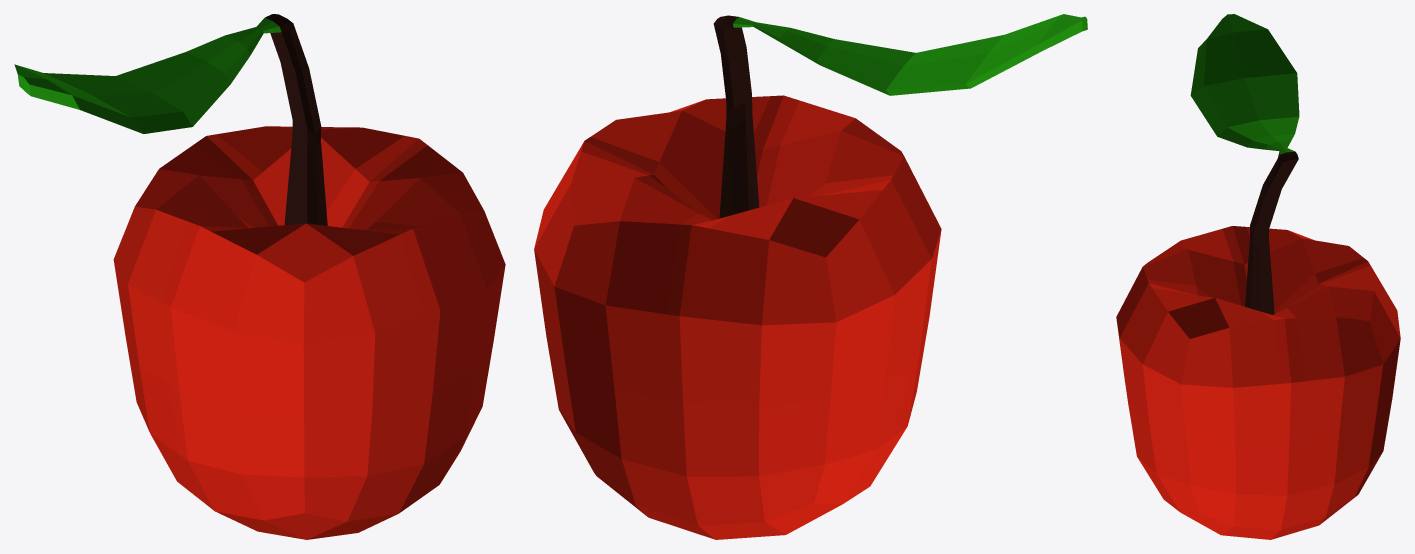
Rendered from Apple 1.fbx.
The picture shows the model from 3 angles, left to right: view 1: azimuth 30°, elevation 25°; view 2: azimuth 150°, elevation 25°; view 3: azimuth 270°, elevation 25°; orthographic projection. The views are drawn at different scales.
Parts seen in each view (by area): view 1: Node 0; view 2: Node 0; view 3: Node 0.
Boxes of the visible parts, <box> form: Node 0: <box>14,14,505,539</box>; Node 0: <box>534,14,1087,539</box>; Node 0: <box>1116,14,1400,539</box>.
Size of the model in its own units: 0.0752 by 0.1142 by 0.1078.
